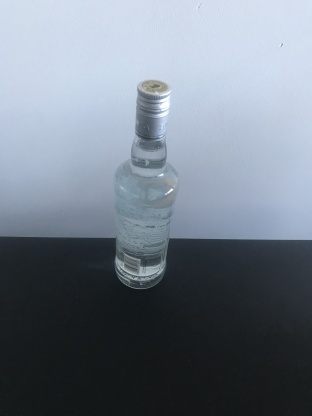nakretka: (133, 78, 171, 143)
